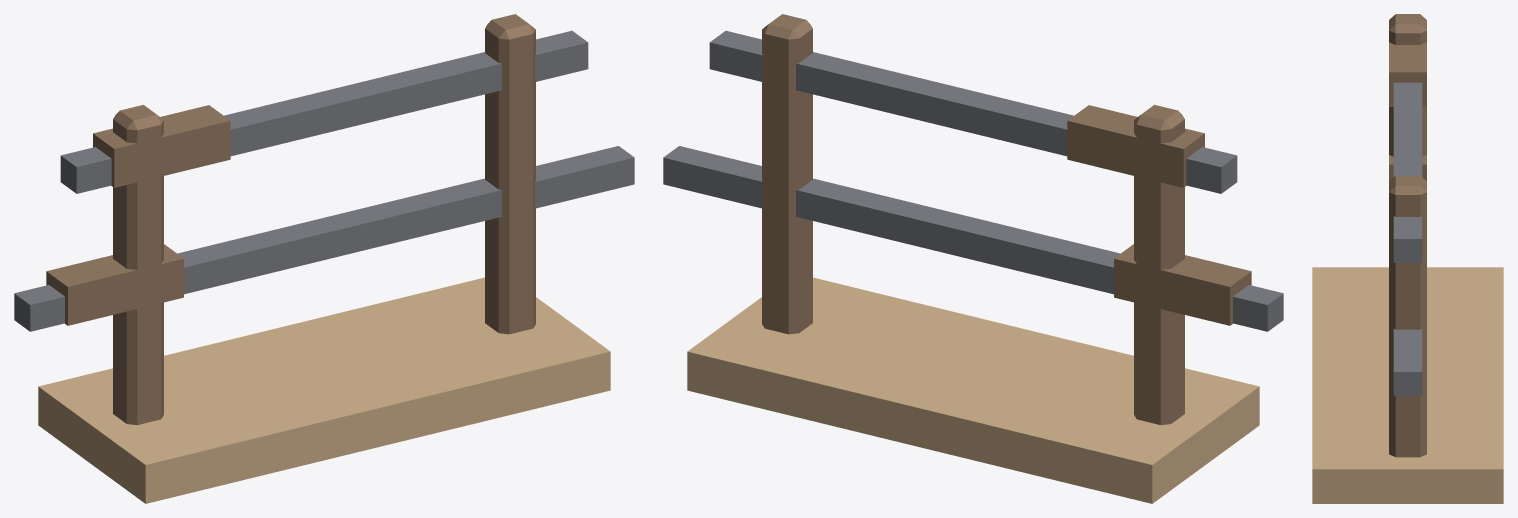
The model's file is feudal-japan-castle-town-sword-rack-b7197a3f__26428.glb.
3 renders of one model, left to right at view 1: azimuth 30°, elevation 25°; view 2: azimuth 150°, elevation 25°; view 3: azimuth 270°, elevation 25°, orthographic. The views are drawn at different scales.
Visible parts, largest first — view 1: sword-rack; view 2: sword-rack; view 3: sword-rack.
Part boxes in pixels (x1,y1,x2,y2): sword-rack: [14, 14, 634, 503]; sword-rack: [663, 14, 1283, 503]; sword-rack: [1312, 14, 1503, 503].
Size of the model in its own units: 1.3 by 0.7 by 0.3999.
